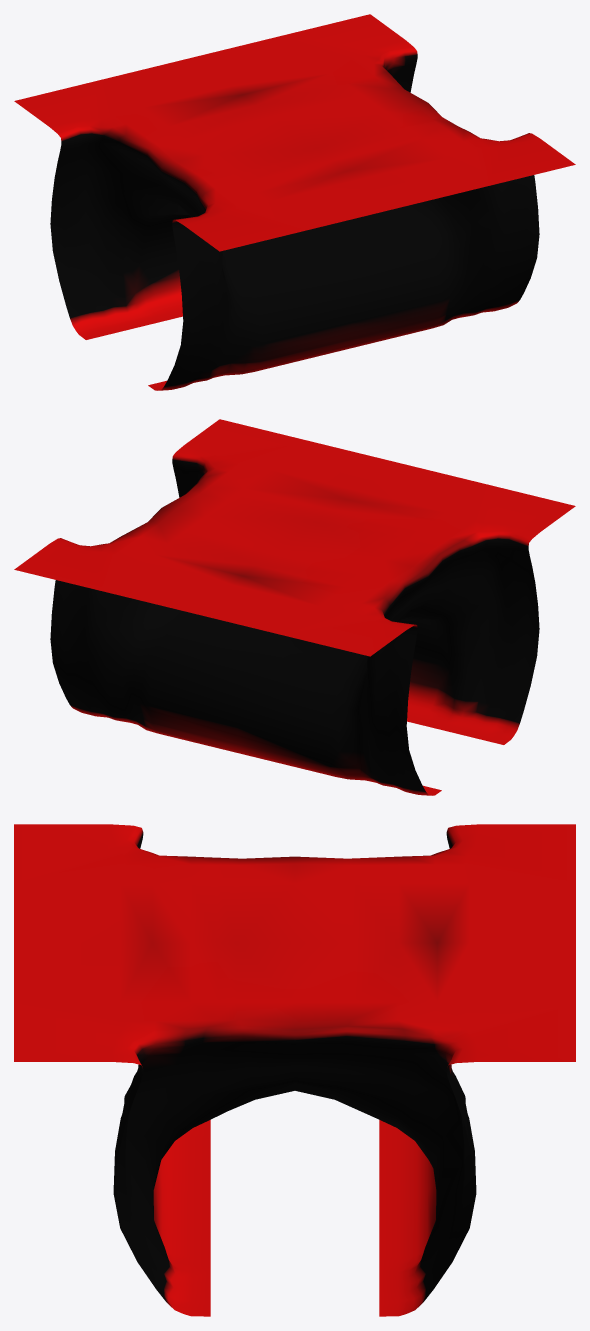
Rendered from CrossingCliff03A 2M Background.fbx.
The picture shows the model from 3 angles, top to bottom: view 1: azimuth 30°, elevation 25°; view 2: azimuth 150°, elevation 25°; view 3: azimuth 270°, elevation 25°; orthographic projection. The views are drawn at different scales.
Visible parts, largest first — view 1: CrossingCliff03A 2M Background; view 2: CrossingCliff03A 2M Background; view 3: CrossingCliff03A 2M Background.
Part boxes in pixels (box(x1,y1,x2,y2)): CrossingCliff03A 2M Background: box(14, 14, 575, 390); CrossingCliff03A 2M Background: box(14, 419, 575, 795); CrossingCliff03A 2M Background: box(14, 824, 575, 1316).
Bounding box in the file's own units: 4 × 2.01 × 4.
